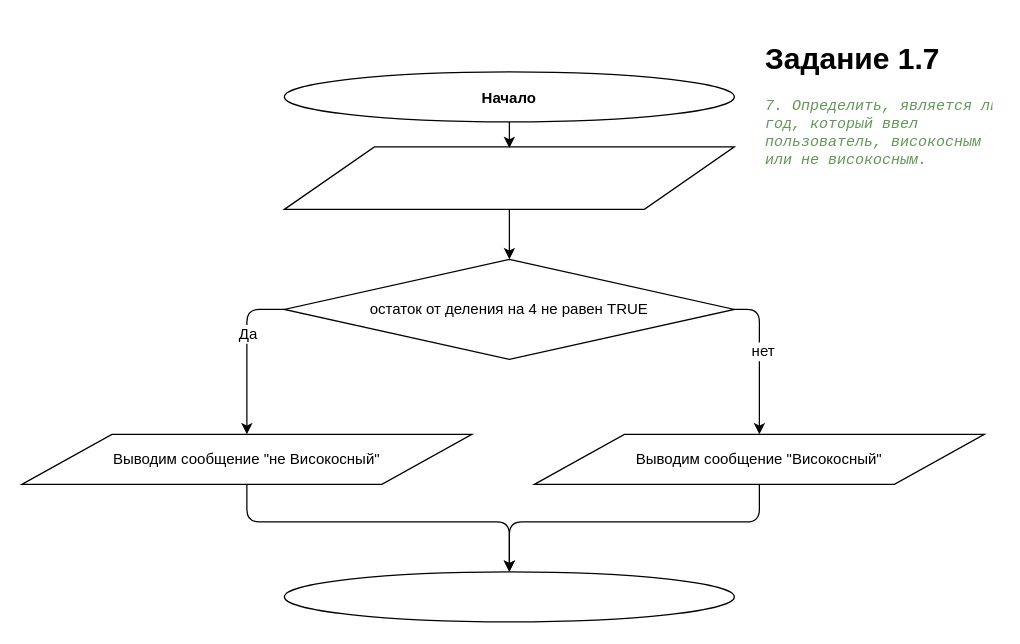
Some shapes in this 1020 by 644 pixel diagram are drawn without their labels. Each missing label, with the box of its shape:
запрашиваем ввод года: (283, 146, 734, 209)
Конец: (283, 571, 734, 622)
